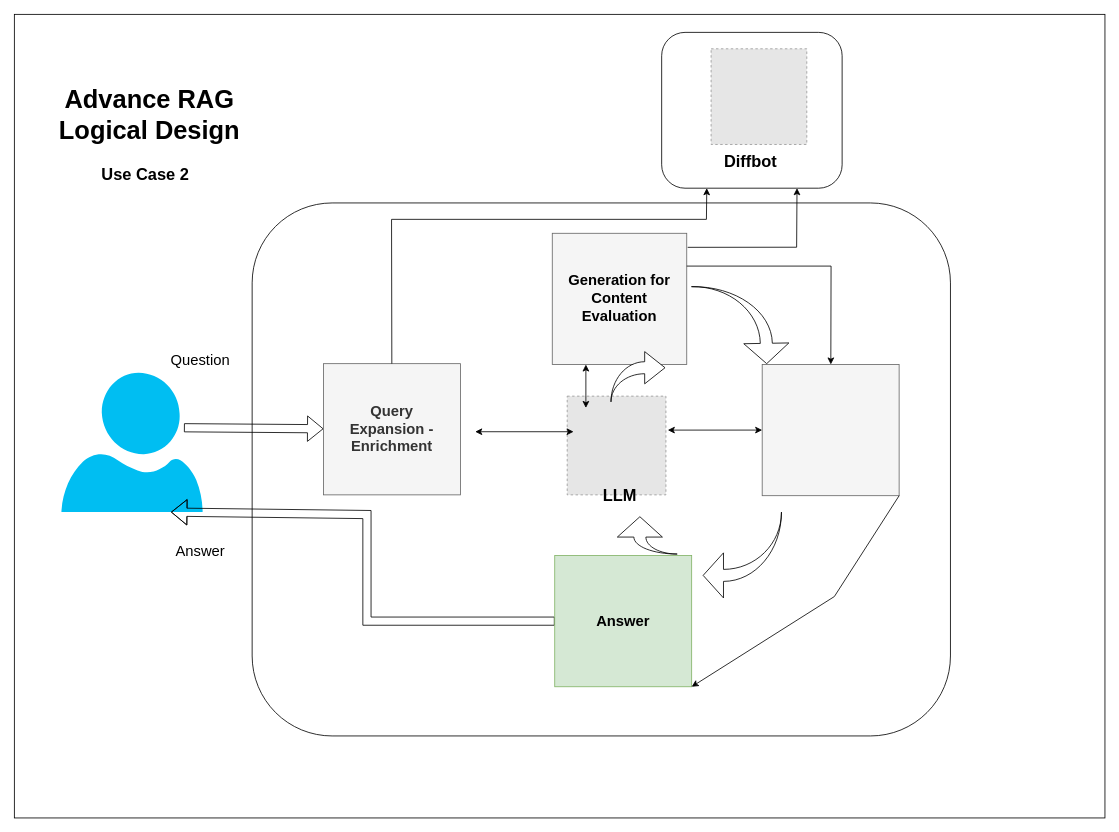
This 1119x832 diagram has some shape labels left out. Grey dashed boxes stand in for pictures. Each missing label, with the centre of its shape:
"Generation for Answer Query" goes at [830,430].
"User" goes at [131,442].
